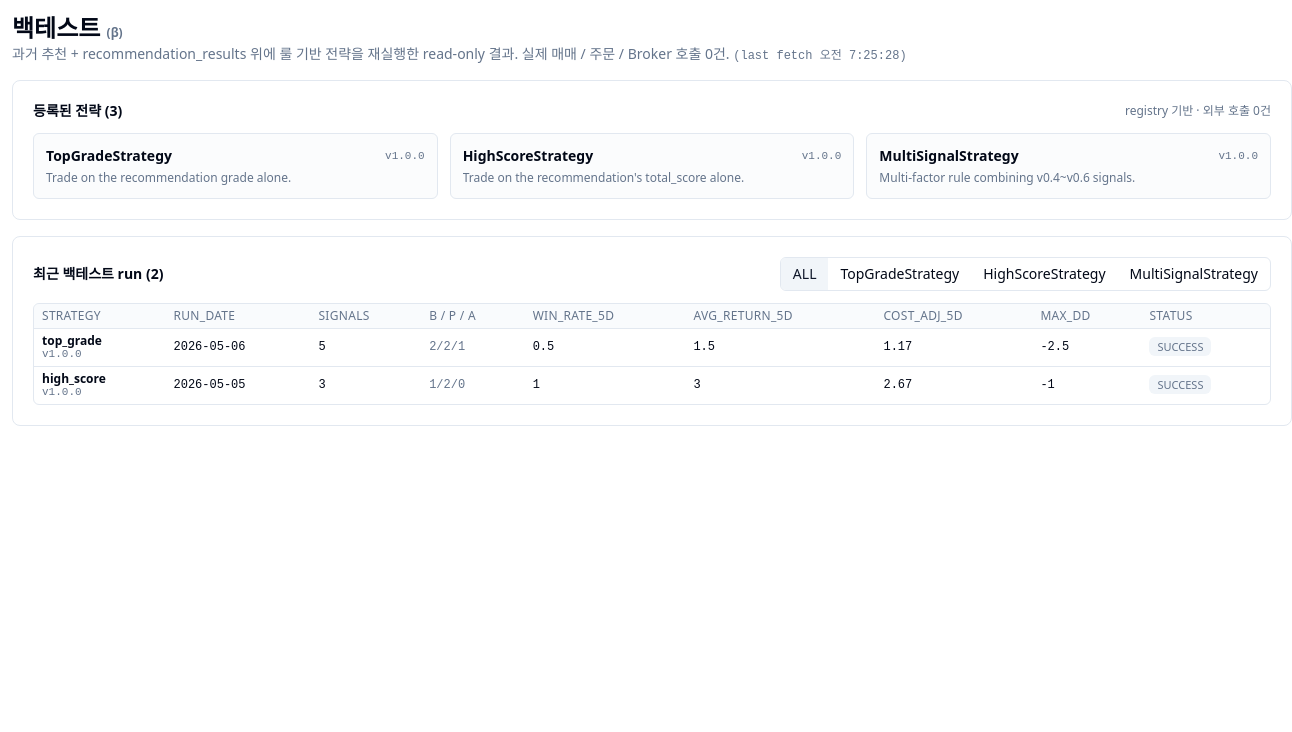
Test: BacktestPage — walk-forward folds (v0.12 Phase D) › renders fold table when folds endpoint returns data
Click the row with test id "backtest-run-row-42".
click(652, 347)  # box [34,328,1270,366]
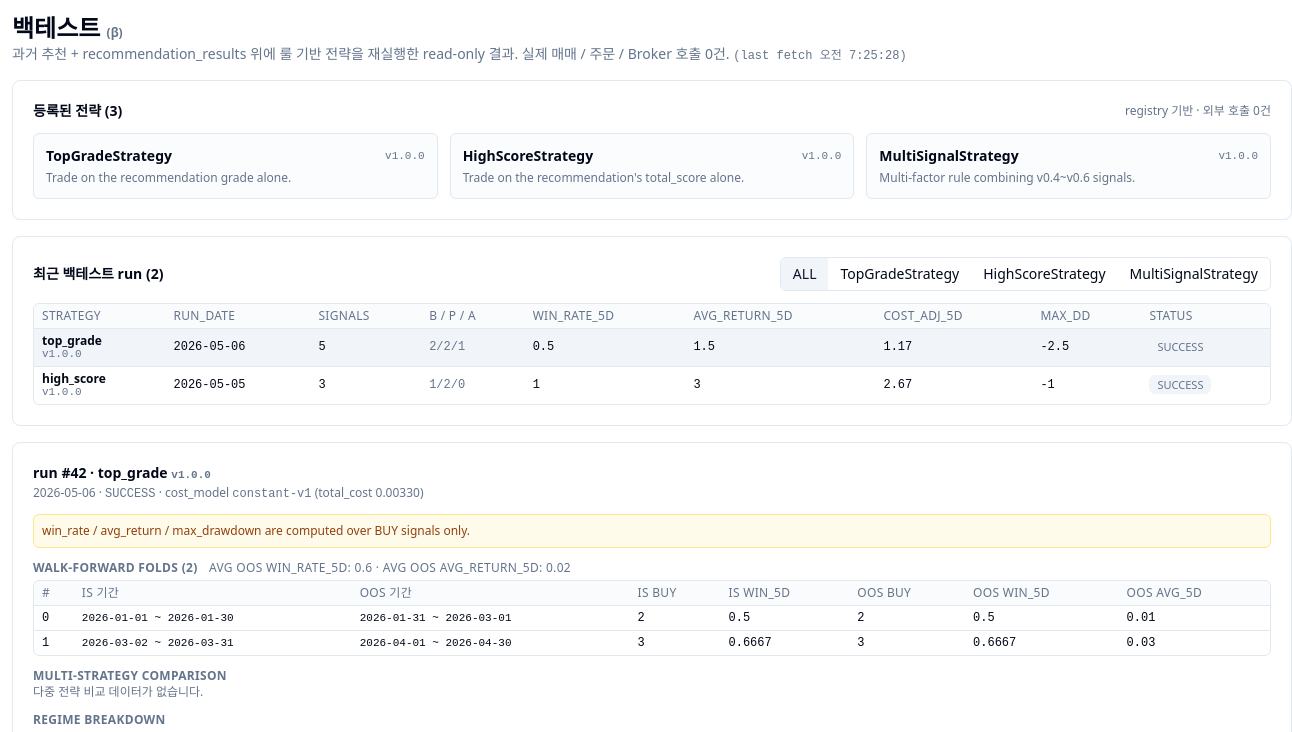
expect the element with test id "backtest-folds" is shown: met, box [33,560,1271,656]
expect the table with test id "backtest-folds-table" is shown: met, box [34,580,1270,654]
expect the row with test id "backtest-fold-0" is shown: met, box [34,605,1270,630]
